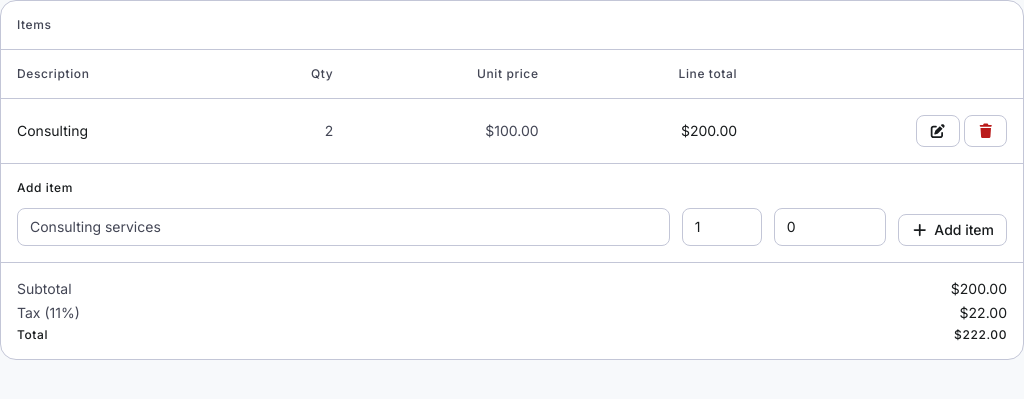
Test case: InvoiceItemsEditor — edit › edits a line item and reflects the returned totals
Click the button named "Edit Consulting".
click(938, 131)  # box [916,115,960,147]
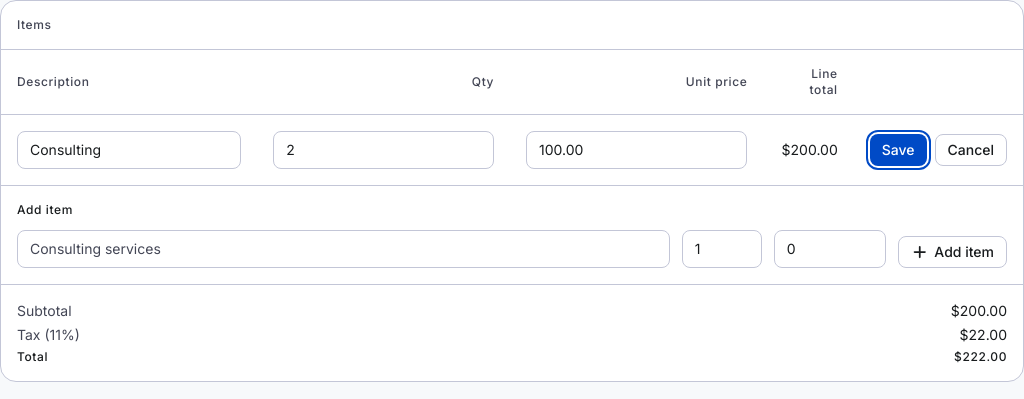
Replace the text in the 1st number field showing "2" with "3" at (384, 150), box [273,131,494,169]
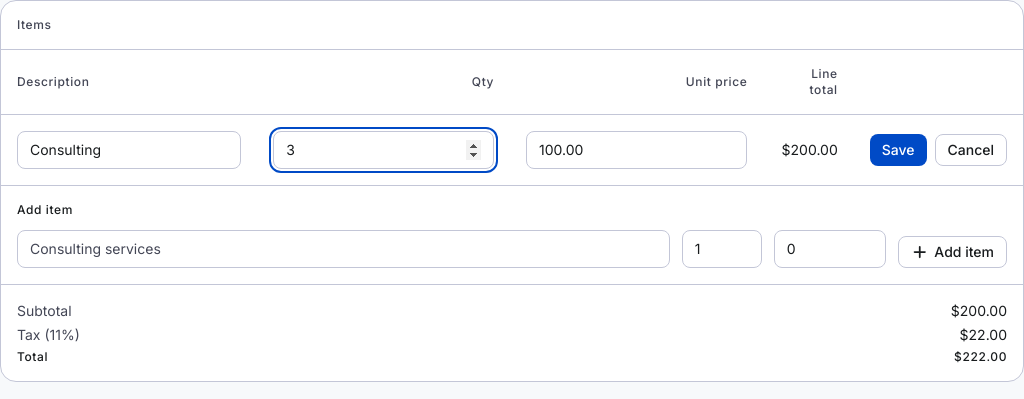
Click the button "Save".
click(898, 150)  # box [870,134,926,166]
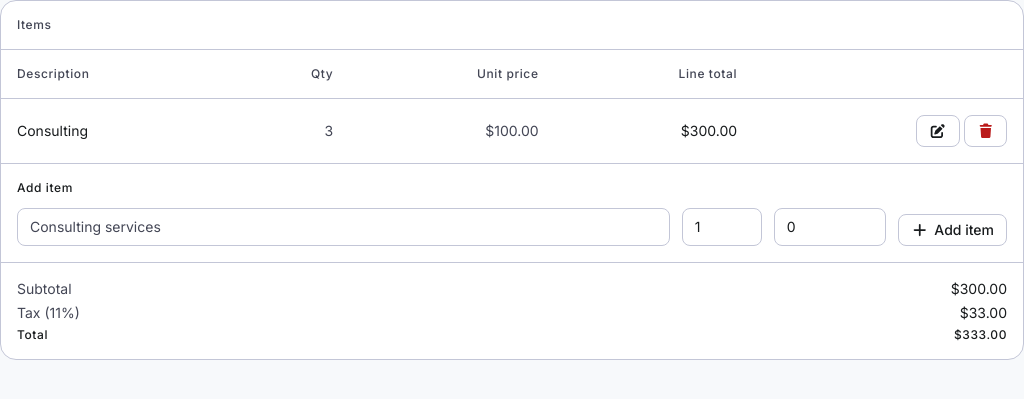
Check: the text "$333.00" is shown, box [954,327,1007,343]
